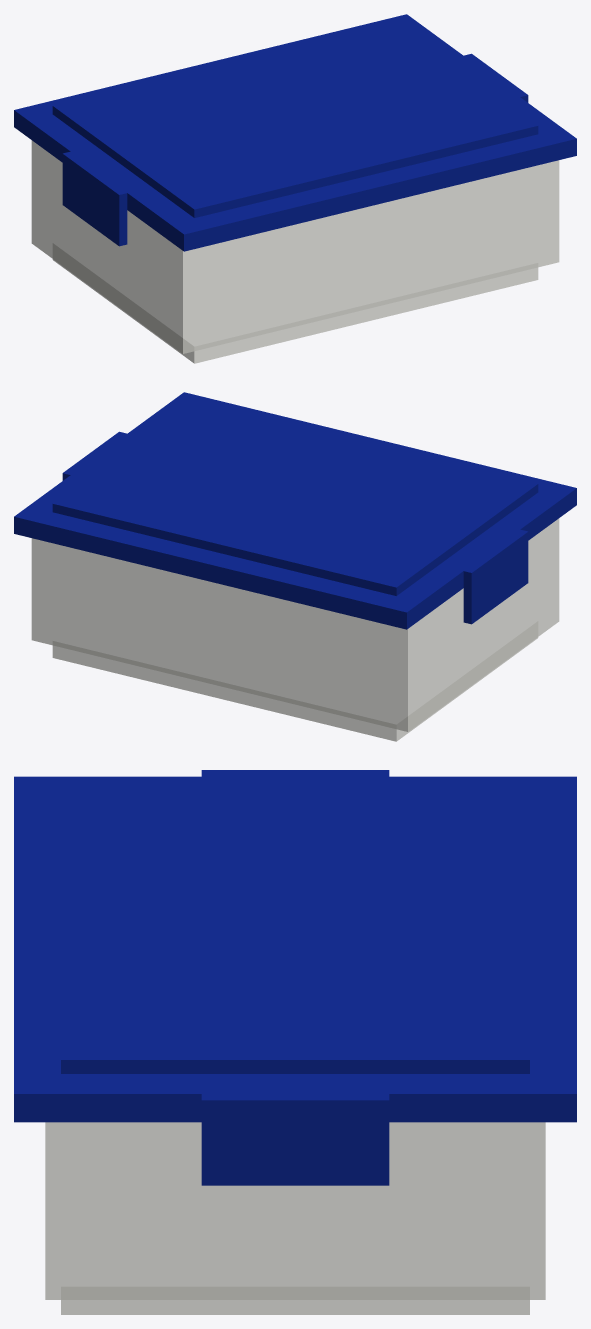
Rendered from bowl_plastic.glb.
The picture shows the model from 3 angles, top to bottom: view 1: azimuth 30°, elevation 25°; view 2: azimuth 150°, elevation 25°; view 3: azimuth 270°, elevation 25°; orthographic projection. The views are drawn at different scales.
Visible parts, largest first — view 1: bowl_plastic:compound; view 2: bowl_plastic:compound; view 3: bowl_plastic:compound.
Boxes of the visible parts, bbox=[...] form: bowl_plastic:compound: bbox=[14, 14, 576, 363]; bowl_plastic:compound: bbox=[14, 392, 576, 741]; bowl_plastic:compound: bbox=[14, 770, 576, 1314].
Bounding box in the file's own units: 0.2 × 0.072 × 0.144.
